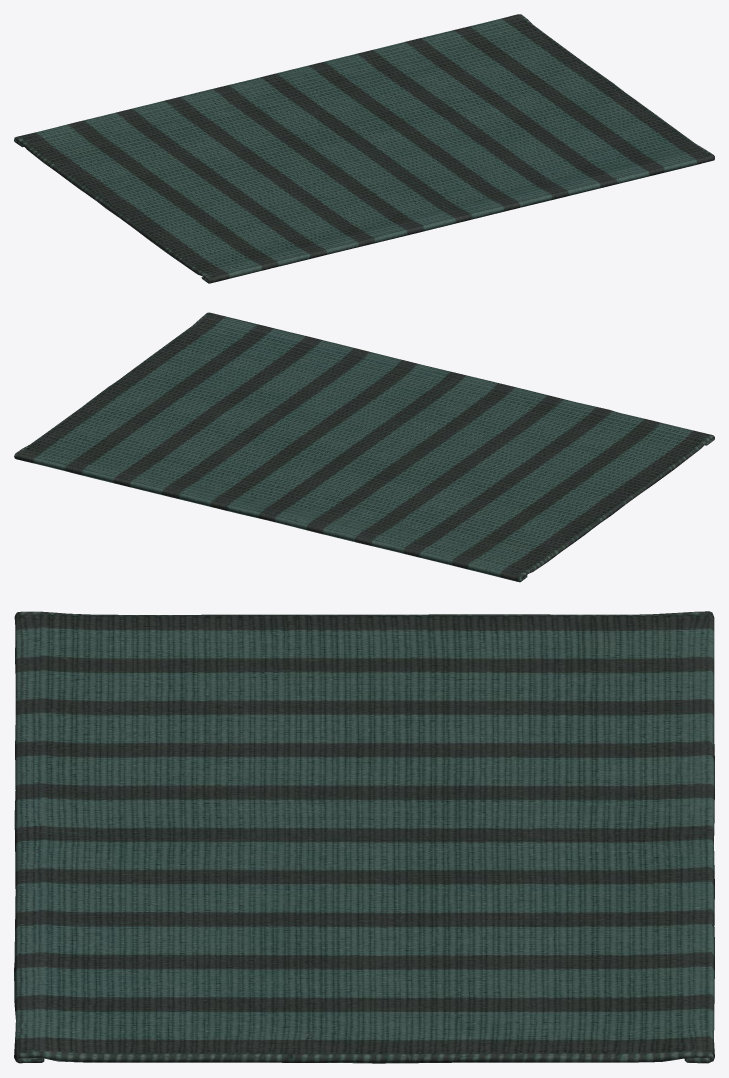
The model's file is vaegskylt_door_mat_blue_green_black.glb.
The picture shows the model from 3 angles, top to bottom: view 1: azimuth 30°, elevation 25°; view 2: azimuth 150°, elevation 25°; view 3: azimuth 270°, elevation 25°; orthographic projection. The views are drawn at different scales.
Parts seen in each view (by area): view 1: ASY_ART_60587045_S01_NV01; view 2: ASY_ART_60587045_S01_NV01; view 3: ASY_ART_60587045_S01_NV01.
Part boxes in pixels (box(x1,y1,x2,y2)): ASY_ART_60587045_S01_NV01: box(14, 14, 714, 283); ASY_ART_60587045_S01_NV01: box(14, 312, 714, 582); ASY_ART_60587045_S01_NV01: box(14, 611, 714, 1063).
Bounding box in the file's own units: 0.8999 × 0.0101 × 0.6005.
1 material, 1 textured.
